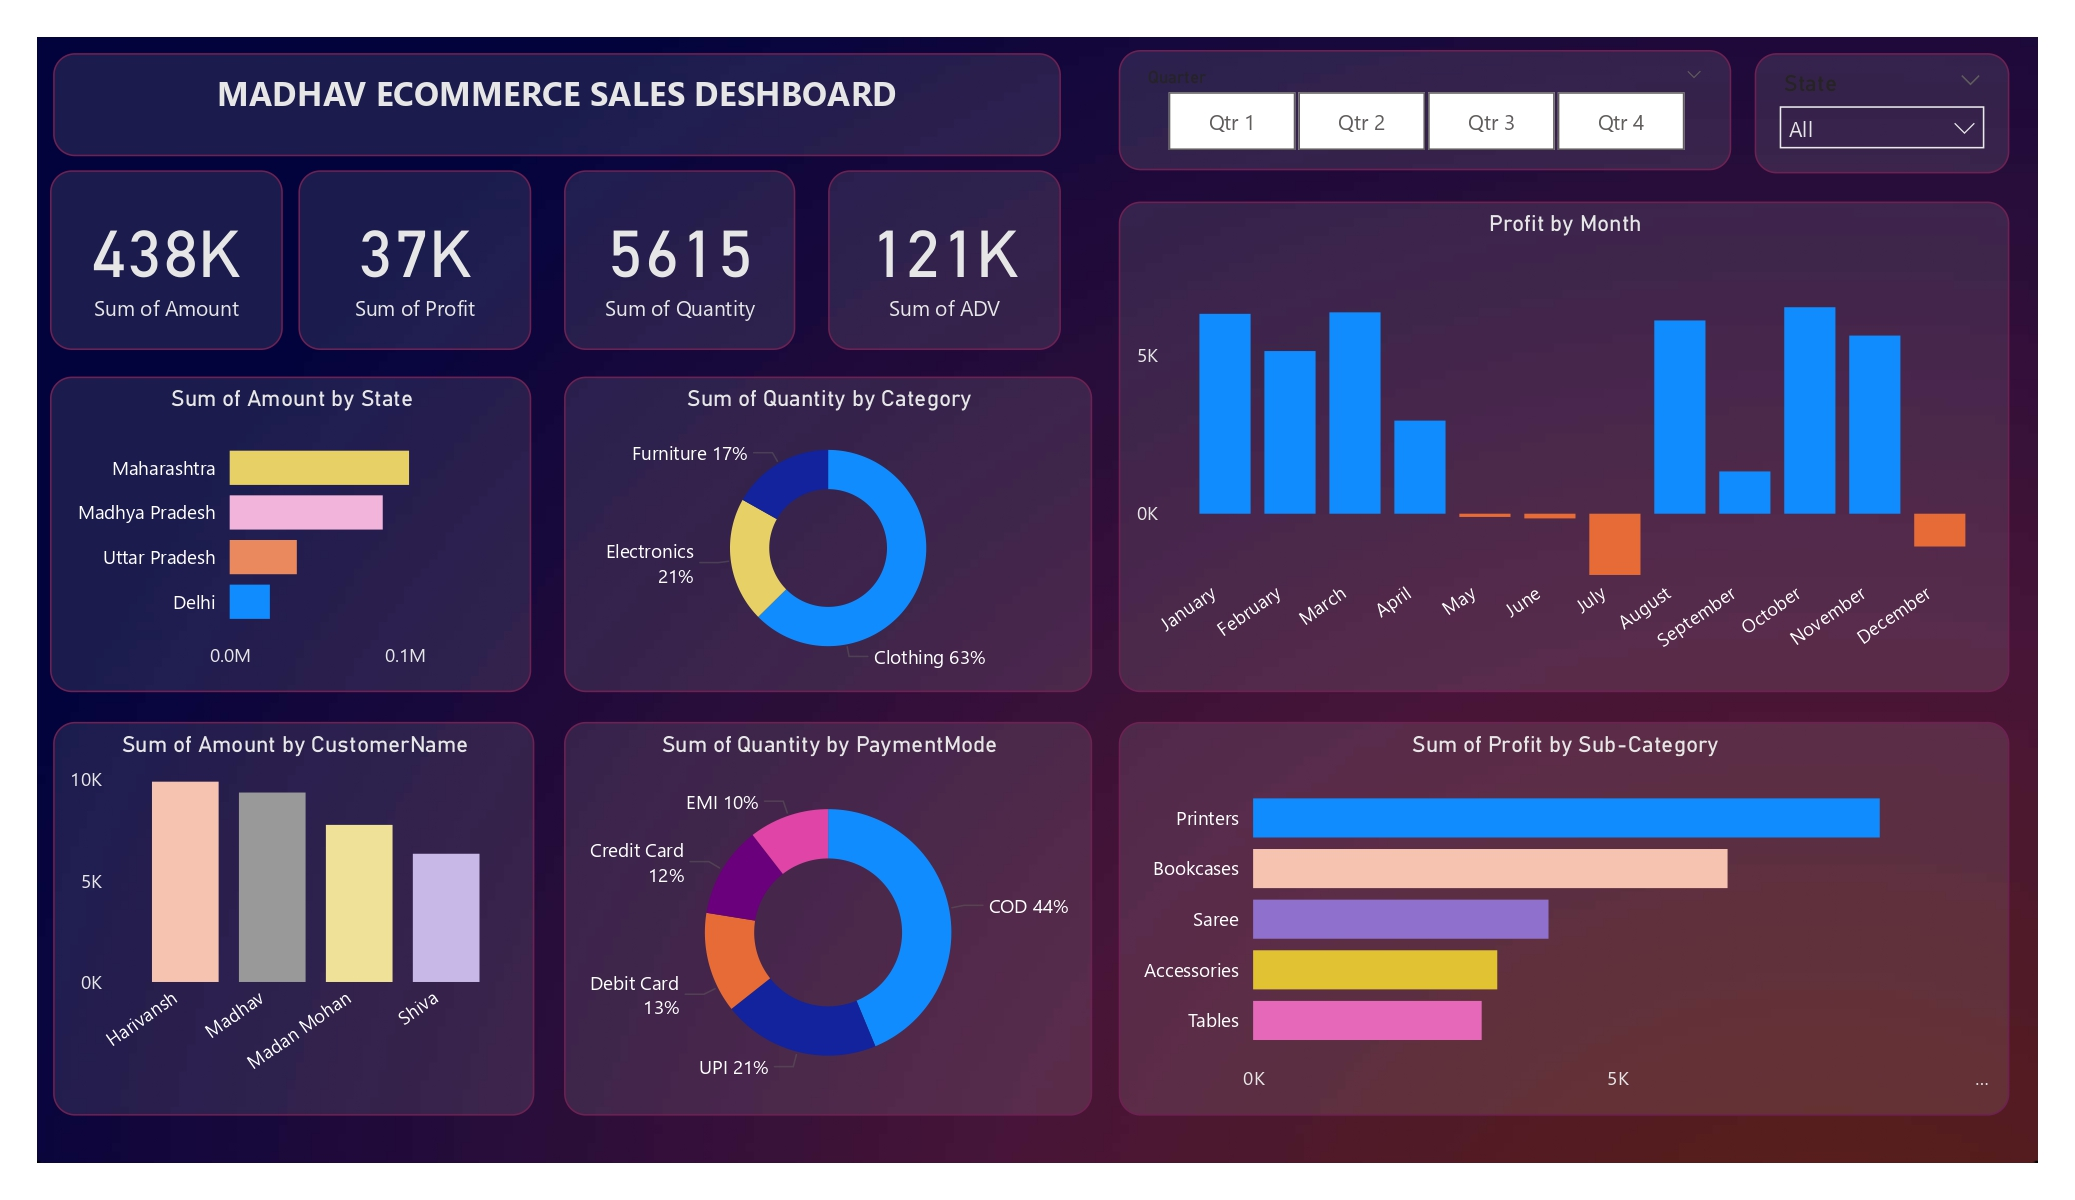

The page's visual inventory and layout, read from the dashboard file:
{"tool":"powerbi","page":{"name":"Page 1","canvas":[1280,720],"ordinal":0},"visuals":[{"type":"textbox","box":[10.3,10.3,644.4,66.1],"z":0},{"type":"columnChart","title":"Profit by Month","fields":{"Category":["Orders.Order Date.Variation.Date Hierarchy.Month"],"Y":["Details.Profit"]},"box":[691.9,105.3,570,313.9],"z":1000},{"type":"barChart","fields":{"Y":["Details.Profit"],"Category":["Details.Sub-Category"]},"box":[691.9,437.9,570,252],"z":2000},{"type":"donutChart","fields":{"Category":["Details.PaymentMode"],"Y":["Details.Quantity"]},"box":[336.7,437.9,338.7,252],"z":3000},{"type":"donutChart","fields":{"Category":["Details.Category"],"Y":["Details.Quantity"]},"box":[336.7,216.9,338.7,202.4],"z":4000},{"type":"card","fields":{"Values":["Details.Amount"]},"box":[8.3,84.7,148.7,115.7],"z":5000},{"type":"card","fields":{"Values":["Details.Profit"]},"box":[167.3,84.7,148.7,115.7],"z":6000},{"type":"card","fields":{"Values":["Details.Quantity"]},"box":[336.7,84.7,148.7,115.7],"z":7000},{"type":"card","fields":{"Values":["Details.ADV"]},"box":[506,84.7,148.7,115.7],"z":8000},{"type":"barChart","fields":{"Category":["Orders.State"],"Y":["Details.Amount"]},"box":[8.3,216.9,307.7,202.4],"z":9000},{"type":"columnChart","fields":{"Y":["Details.Amount"],"Category":["Orders.CustomerName"]},"box":[10.3,437.9,307.7,252],"z":10000},{"type":"slicer","fields":{"Values":["Orders.Order Date.Variation.Date Hierarchy.Quarter"]},"box":[691.9,8.3,392.4,76.4],"z":11000},{"type":"slicer","fields":{"Values":["Orders.State"]},"box":[1098.8,10.3,163.2,76.4],"z":12000}]}

Visuals, with their boxes on the page's 1280x720 design canvas (x1, y1, x2, y2). These are canvas units, not pixel positions in the 2075x1200 screenshot, which may show the page scaled, cropped or inside an application window:
textbox: (x1=10, y1=10, x2=655, y2=76)
"Profit by Month" columnChart: (x1=692, y1=105, x2=1262, y2=419)
barChart - Details.Profit x Details.Sub-Category: (x1=692, y1=438, x2=1262, y2=690)
donutChart - Details.PaymentMode x Details.Quantity: (x1=337, y1=438, x2=675, y2=690)
donutChart - Details.Category x Details.Quantity: (x1=337, y1=217, x2=675, y2=419)
card - Details.Amount: (x1=8, y1=85, x2=157, y2=200)
card - Details.Profit: (x1=167, y1=85, x2=316, y2=200)
card - Details.Quantity: (x1=337, y1=85, x2=485, y2=200)
card - Details.ADV: (x1=506, y1=85, x2=655, y2=200)
barChart - Orders.State x Details.Amount: (x1=8, y1=217, x2=316, y2=419)
columnChart - Details.Amount x Orders.CustomerName: (x1=10, y1=438, x2=318, y2=690)
slicer - Orders.Order Date.Variation.Date Hierarchy.Quarter: (x1=692, y1=8, x2=1084, y2=85)
slicer - Orders.State: (x1=1099, y1=10, x2=1262, y2=87)
